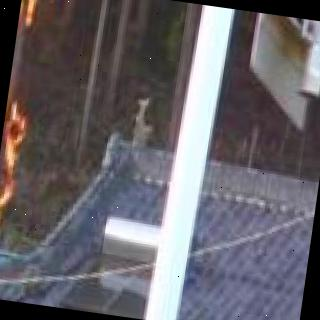fire: (0, 0, 44, 245)
